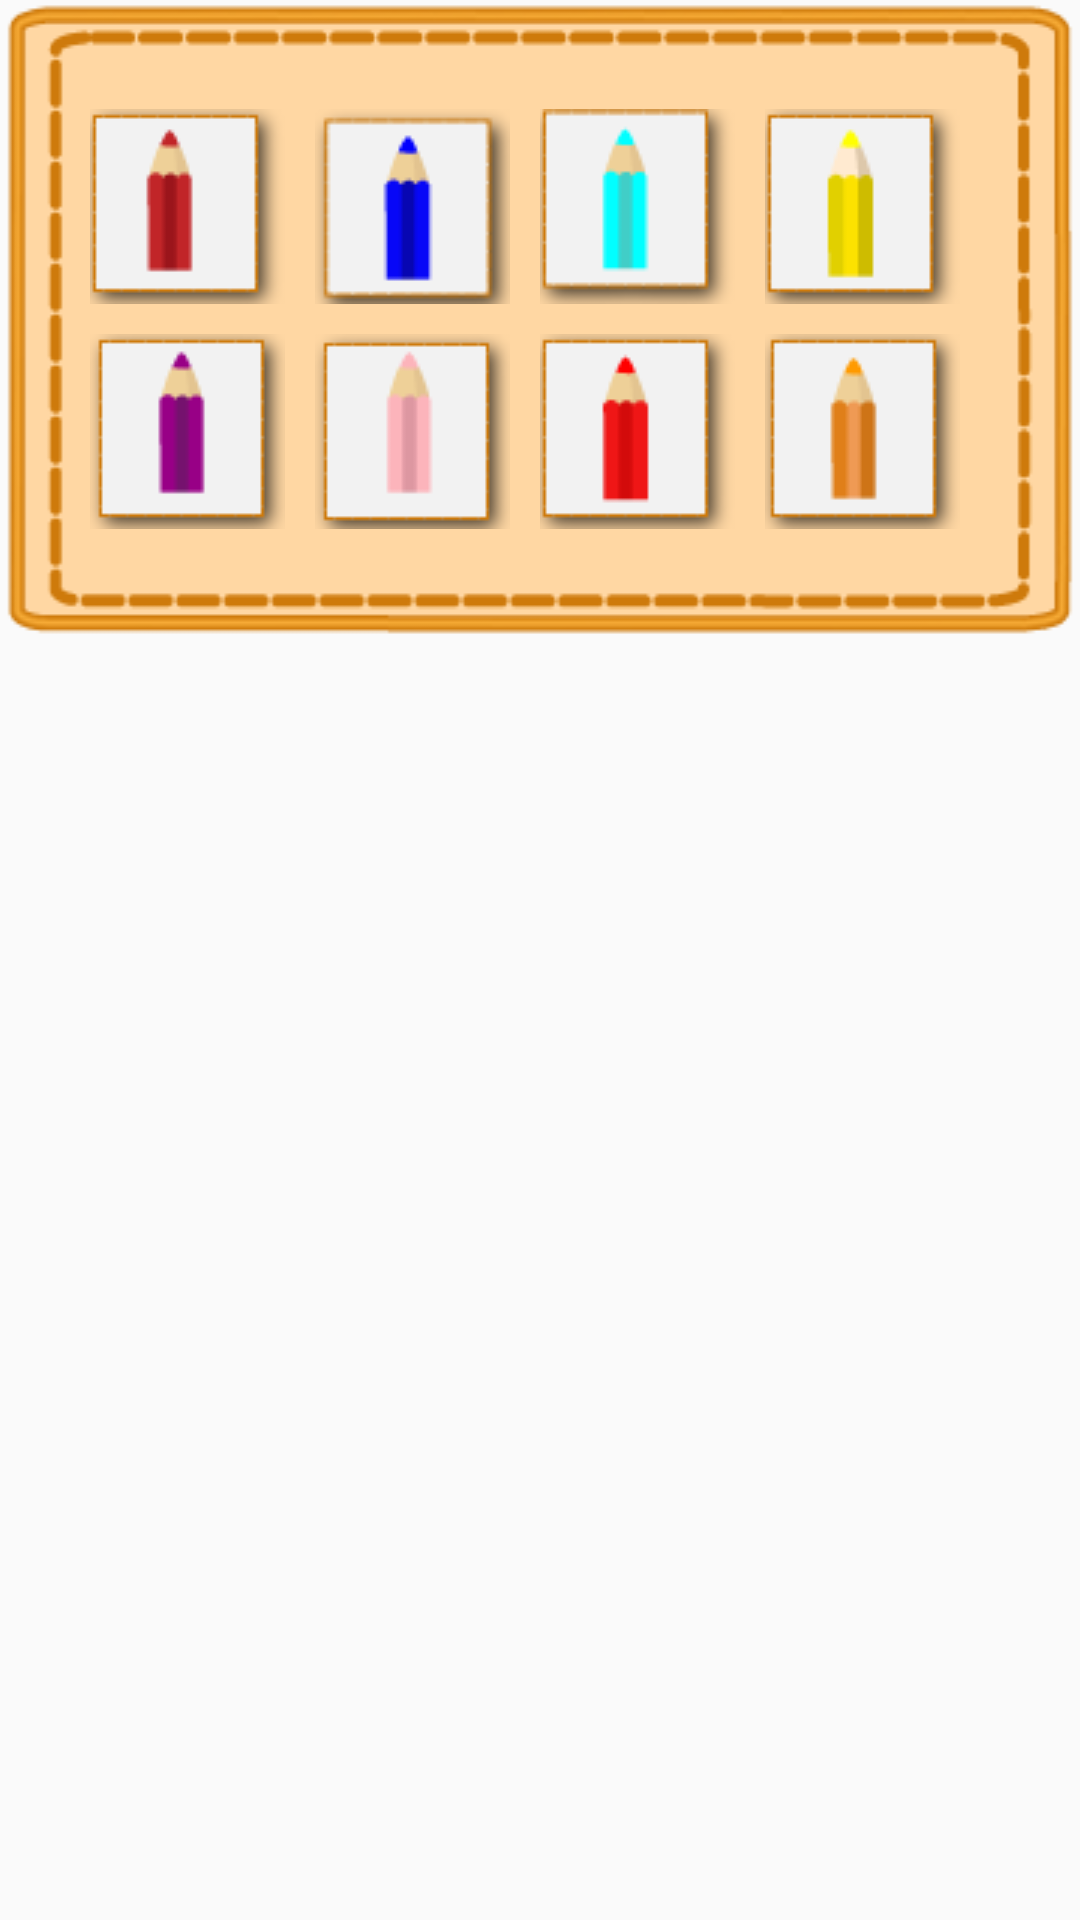

Icons on this 1080px×1920px Android screen, each with the point to tap as [x,y]:
pencil: [632,206], [182,207], [857,207], [414,210], [187,432], [632,432], [859,432], [412,434]
